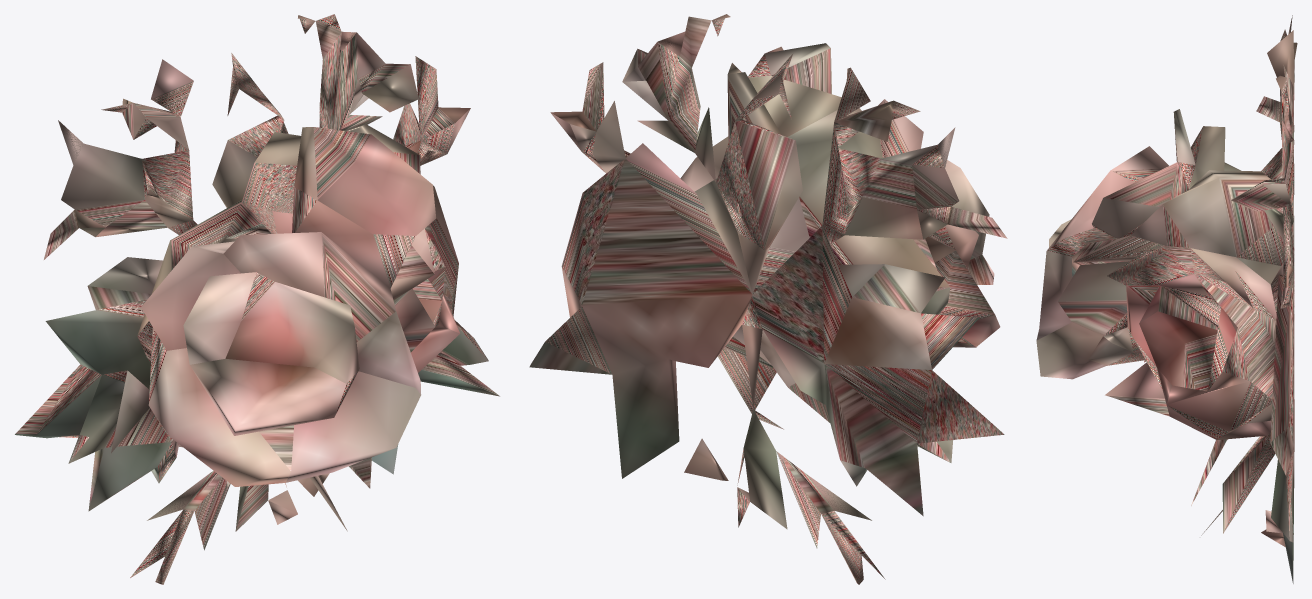
3 renders of one model, left to right at view 1: azimuth 30°, elevation 25°; view 2: azimuth 150°, elevation 25°; view 3: azimuth 270°, elevation 25°, orthographic. The views are drawn at different scales.
Visible parts, largest first — view 1: Rose-Bouquet-10-26; view 2: Rose-Bouquet-10-26; view 3: Rose-Bouquet-10-26.
Boxes of the visible parts, <box> form: Rose-Bouquet-10-26: <box>15,14,499,584</box>; Rose-Bouquet-10-26: <box>529,14,1007,584</box>; Rose-Bouquet-10-26: <box>1036,15,1297,583</box>.
Bounding box in the file's own units: 0.2764 × 0.2977 × 0.1381.
Materials: 1 (1 with a texture image).
